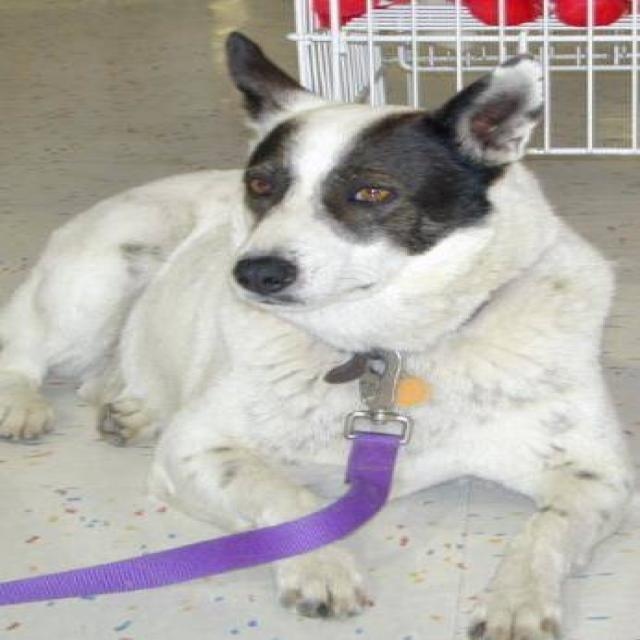dog: (0, 29, 634, 638)
